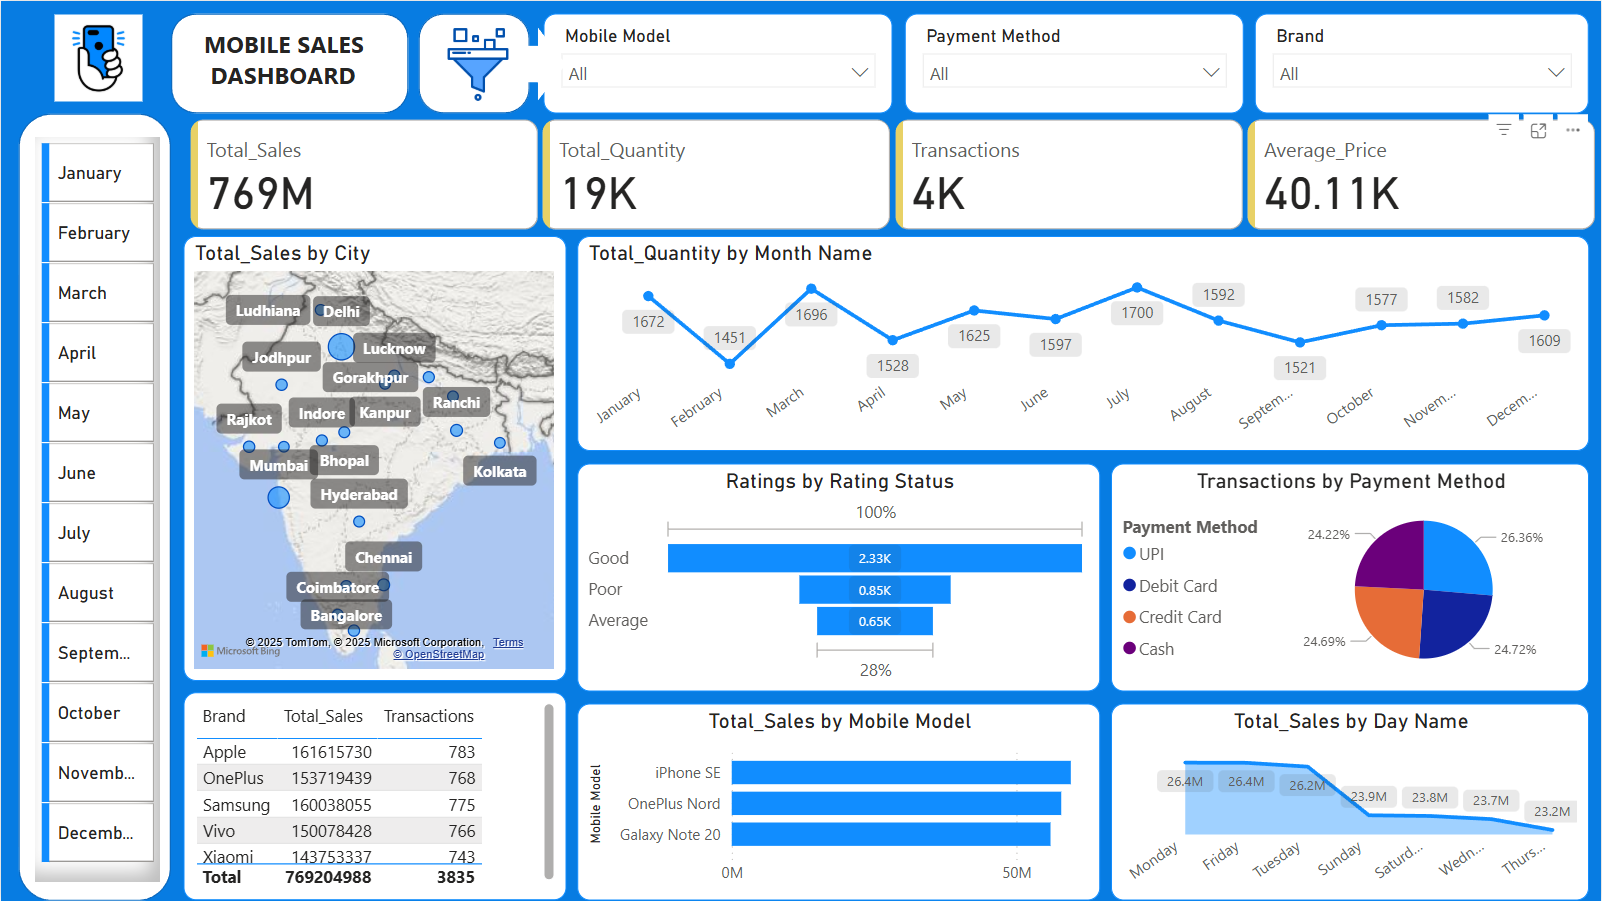

This screenshot's page, from the dashboard's own definition file:
{"tool":"powerbi","page":{"name":"Dashboard","canvas":[1280,720],"ordinal":0},"visuals":[{"type":"image","box":[14.5,6,126.7,79.6],"z":0},{"type":"shape","box":[14.5,90.5,121.9,629.8],"z":2000},{"type":"advancedSlicerVisual","fields":{"Values":["Custom_Calender.Month Name"]},"box":[26.5,108.6,100.1,596],"z":3000},{"type":"cardVisual","fields":{"Data":["Sales_Data.Total_Sales","Sales_Data.Total_Quantity","Sales_Data.Transactions","Sales_Data.Average_Price"]},"box":[146,90.5,1134.1,97.7],"z":4000},{"type":"slicer","fields":{"Values":["Sales_Data.Mobile Model"]},"box":[434.3,9.7,278.7,80.8],"z":5000},{"type":"slicer","fields":{"Values":["Sales_Data.Payment Method"]},"box":[722.7,9.7,271.4,80.8],"z":6000},{"type":"slicer","fields":{"Values":["Sales_Data.Brand"]},"box":[1002.6,9.7,267.8,80.8],"z":7000},{"type":"shape","box":[334.2,9.7,89.3,80.8],"z":8000},{"type":"image","box":[334.2,15.7,95.3,70],"z":9000},{"type":"shape","box":[406.6,20.5,45.8,59.1],"z":10000},{"type":"shape","box":[136.3,9.7,189.4,80.8],"z":11000},{"type":"textbox","box":[156.8,16.9,155.6,62.7],"z":12000},{"type":"map","fields":{"Size":["Sales_Data.Total_Sales"],"Category":["Sales_Data.City"]},"box":[146,188.2,306.4,355.9],"z":13000},{"type":"lineChart","fields":{"Y":["Sales_Data.Total_Quantity"],"Category":["Custom_Calender.Month Name"]},"box":[460.9,188.2,809.5,171.3],"z":14000},{"type":"funnel","title":"Ratings by Rating Status","fields":{"Y":["CountNonNull(Sales_Data.Customer Ratings)"],"Category":["Sales_Data.Rating Status"]},"box":[460.9,370.4,418.6,182.2],"z":15000},{"type":"pieChart","fields":{"Y":["Sales_Data.Transactions"],"Category":["Sales_Data.Payment Method"]},"box":[887.9,370.4,382.4,182.2],"z":16000},{"type":"clusteredBarChart","fields":{"Y":["Sales_Data.Total_Sales"],"Category":["Sales_Data.Mobile Model"]},"box":[460.9,562.2,418.6,158],"z":17000},{"type":"areaChart","fields":{"Y":["Sales_Data.Total_Sales"],"Category":["Custom_Calender.Day Name"]},"box":[887.9,562.2,382.4,158],"z":18000},{"type":"tableEx","fields":{"Values":["Sales_Data.Brand","Sales_Data.Total_Sales","Sales_Data.Transactions"]},"box":[146,552.5,306.4,167.7],"z":19000}]}

Visuals, with their boxes in screenshot pixels (x1, y1, x2, y2), scaled from the page's 1280x720 canvas onto the 1602x901 screenshot:
image: l=18, t=8, r=177, b=107
shape: l=18, t=113, r=171, b=900
advancedSlicerVisual - Custom_Calender.Month Name: l=33, t=136, r=158, b=882
cardVisual - Sales_Data.Total_Sales x Sales_Data.Total_Quantity: l=183, t=113, r=1601, b=236
slicer - Sales_Data.Mobile Model: l=544, t=12, r=892, b=113
slicer - Sales_Data.Payment Method: l=905, t=12, r=1244, b=113
slicer - Sales_Data.Brand: l=1255, t=12, r=1590, b=113
shape: l=418, t=12, r=530, b=113
image: l=418, t=20, r=538, b=107
shape: l=509, t=26, r=566, b=100
shape: l=171, t=12, r=408, b=113
textbox: l=196, t=21, r=391, b=100
map - Sales_Data.Total_Sales x Sales_Data.City: l=183, t=236, r=566, b=681
lineChart - Sales_Data.Total_Quantity x Custom_Calender.Month Name: l=577, t=236, r=1590, b=450
"Ratings by Rating Status" funnel: l=577, t=464, r=1101, b=692
pieChart - Sales_Data.Transactions x Sales_Data.Payment Method: l=1111, t=464, r=1590, b=692
clusteredBarChart - Sales_Data.Total_Sales x Sales_Data.Mobile Model: l=577, t=704, r=1101, b=900
areaChart - Sales_Data.Total_Sales x Custom_Calender.Day Name: l=1111, t=704, r=1590, b=900
tableEx - Sales_Data.Brand x Sales_Data.Total_Sales: l=183, t=691, r=566, b=900
